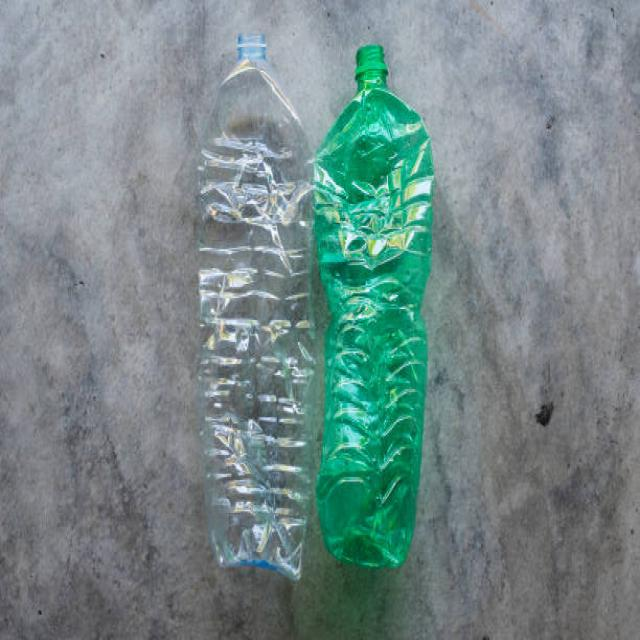plastic: (197, 14, 437, 566)
